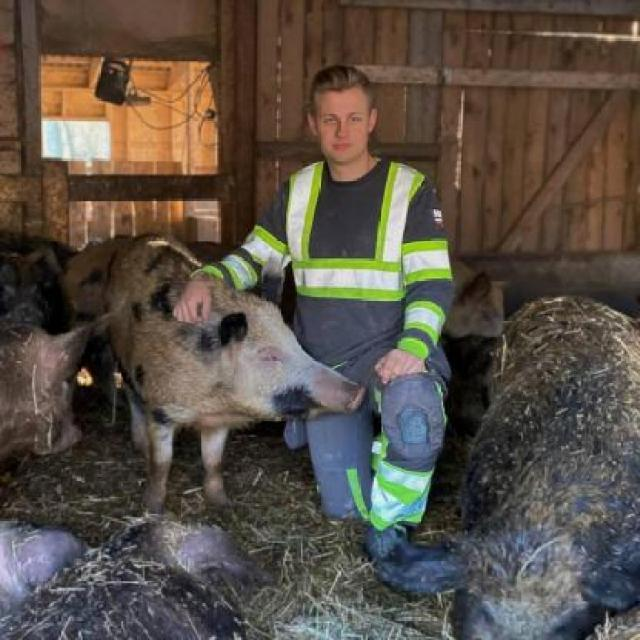wildboar: (44, 227, 367, 516), (424, 280, 639, 640)
